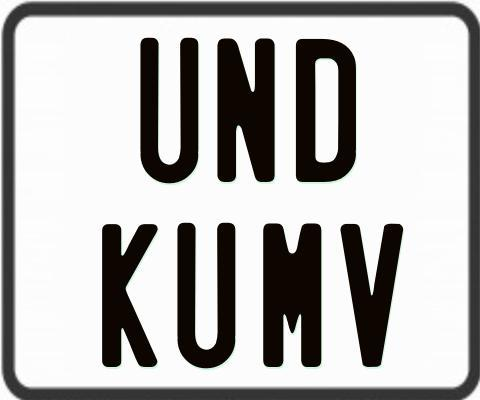D: (294, 36, 355, 179)
K: (102, 222, 159, 367)
M: (263, 221, 324, 366)
N: (217, 37, 276, 183)
U: (138, 38, 202, 186), (174, 222, 236, 372)
V: (341, 222, 404, 366)
